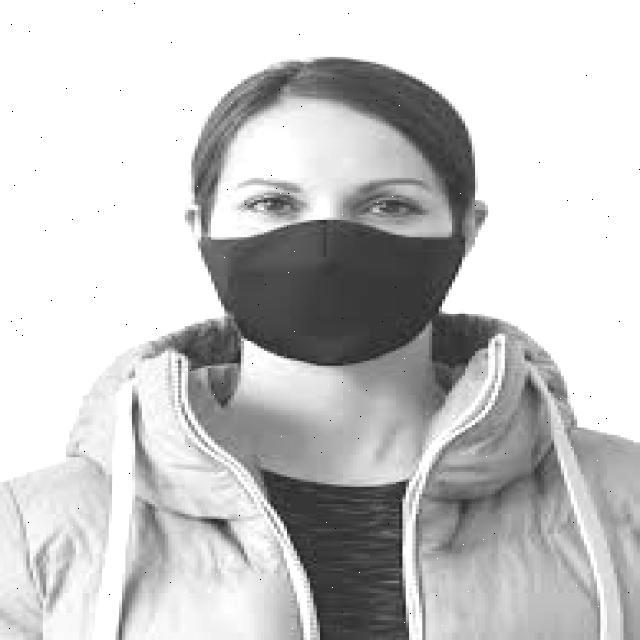fake: (197, 219, 467, 368)
real: (205, 100, 460, 376)
